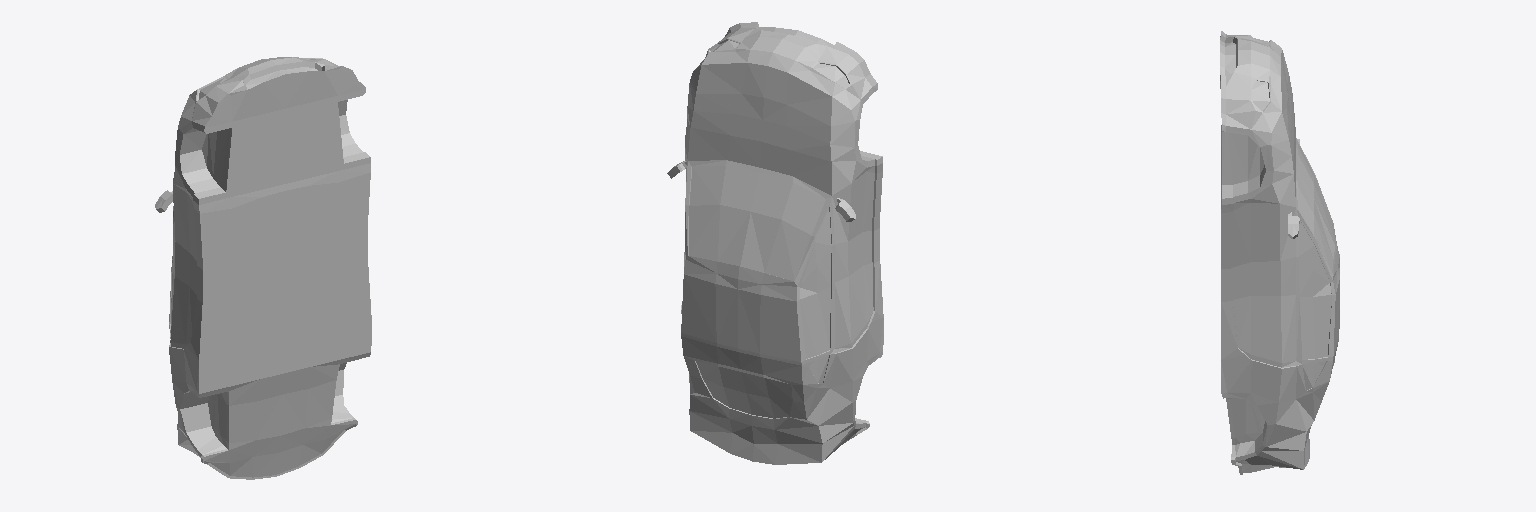
File: SportsCar2_Cube.001.obj
3 views of the same model, side by side, from view 1: azimuth 30°, elevation 25°; view 2: azimuth 150°, elevation 25°; view 3: azimuth 270°, elevation 25° (orthographic).
Visible parts, largest first — view 1: SportsCar2_Cube.001; view 2: SportsCar2_Cube.001; view 3: SportsCar2_Cube.001.
Part boxes in pixels (x1,y1,x2,y2): SportsCar2_Cube.001: (155,57,371,479); SportsCar2_Cube.001: (667,22,883,464); SportsCar2_Cube.001: (1220,31,1339,474).
Size of the model in its own units: 225 by 471 by 124.